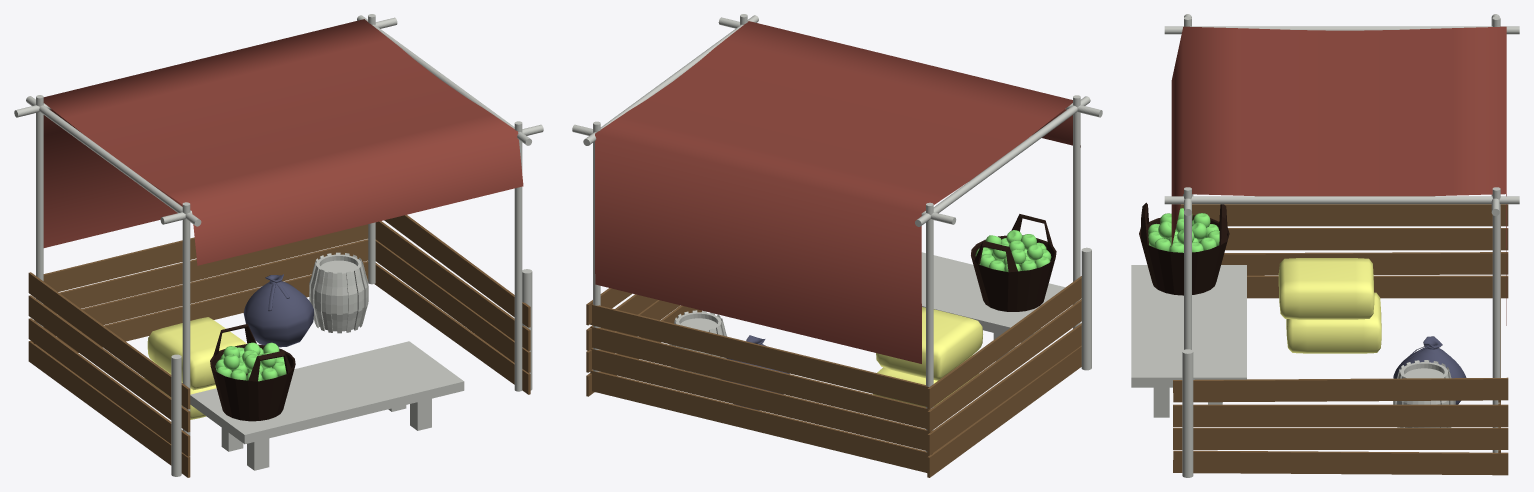
Rendered from tent#001.glb.
3 views of the same model, side by side, from view 1: azimuth 30°, elevation 25°; view 2: azimuth 150°, elevation 25°; view 3: azimuth 270°, elevation 25° (orthographic). The views are drawn at different scales.
Parts seen in each view (by area): view 1: Plane; view 2: Plane; view 3: Plane.
Part boxes in pixels (left/top/right/bottom): Plane: left=14, top=14, right=543, bottom=477; Plane: left=572, top=14, right=1102, bottom=477; Plane: left=1131, top=14, right=1519, bottom=477.
Bounding box in the file's own units: 2.38 × 1.63 × 2.01.
